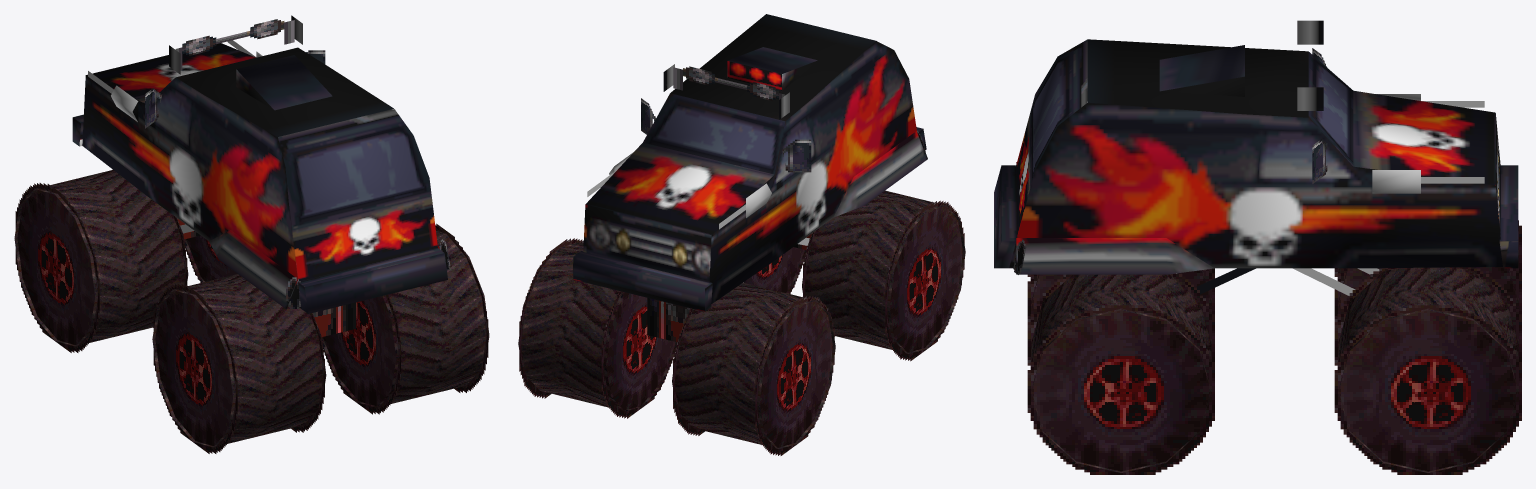
File: Hammerhead.obj
The picture shows the model from 3 angles, left to right: view 1: azimuth 30°, elevation 25°; view 2: azimuth 150°, elevation 25°; view 3: azimuth 270°, elevation 25°; orthographic projection. The views are drawn at different scales.
Parts seen in each view (by area): view 1: Hammerhead.001; view 2: Hammerhead.001; view 3: Hammerhead.001.
Part boxes in pixels (x1,y1,x2,y2): Hammerhead.001: (14,15,489,453); Hammerhead.001: (518,14,965,455); Hammerhead.001: (994,20,1521,474).
Size of the model in its own units: 2.81 by 3.38 by 4.5.
